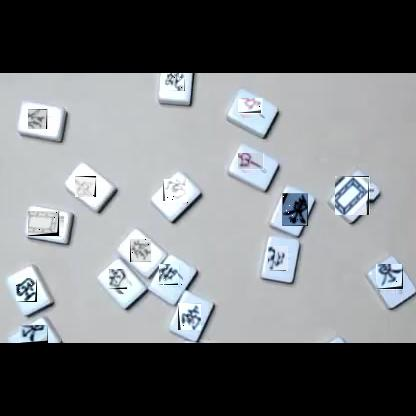1z: (282, 193, 308, 226), (376, 265, 403, 294), (19, 325, 48, 343)
2z: (163, 180, 188, 206), (178, 303, 201, 330)
3z: (110, 270, 132, 294), (16, 278, 37, 302)
4z: (160, 265, 183, 290), (269, 246, 291, 271), (165, 73, 185, 91)
5z: (336, 176, 374, 215), (29, 211, 64, 236)
6z: (130, 239, 151, 262), (29, 109, 52, 129)
7z: (239, 154, 267, 173), (76, 176, 101, 197), (239, 99, 266, 118)
